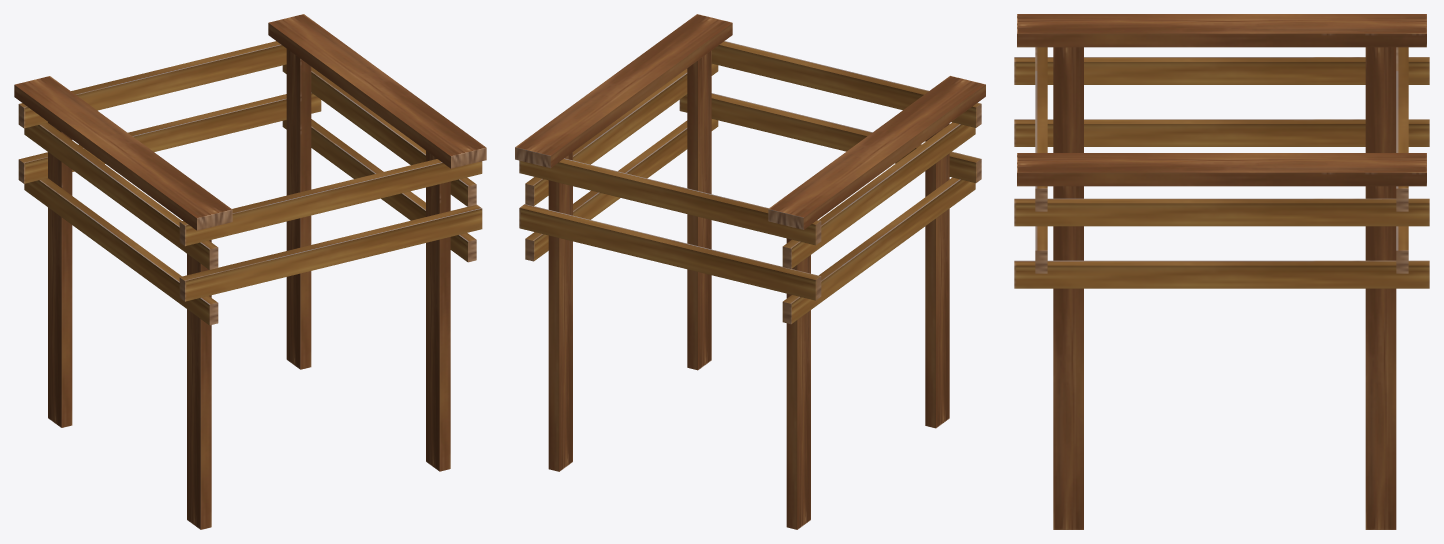
File: jiazi_04.fbx
3 views of the same model, side by side, from view 1: azimuth 30°, elevation 25°; view 2: azimuth 150°, elevation 25°; view 3: azimuth 270°, elevation 25° (orthographic). The views are drawn at different scales.
Parts seen in each view (by area): view 1: jiazi_02; view 2: jiazi_02; view 3: jiazi_02.
Boxes of the visible parts, x1=… form: jiazi_02: x1=14, y1=14, x2=486, y2=529; jiazi_02: x1=515, y1=14, x2=985, y2=529; jiazi_02: x1=1014, y1=14, x2=1429, y2=529.
Size of the model in its own units: 147 by 155 by 159.
